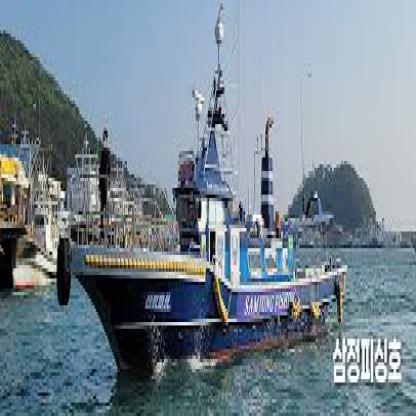fish-b: (51, 0, 362, 399)
